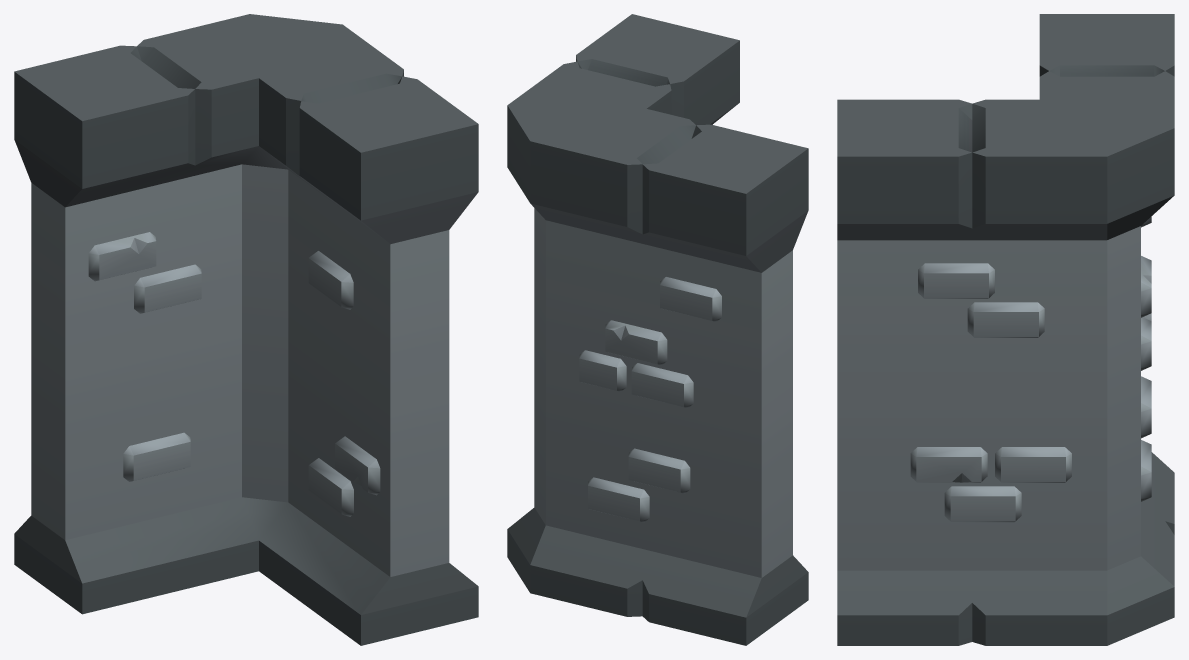
File: wall_corner.glb
3 views of the same model, side by side, from view 1: azimuth 30°, elevation 25°; view 2: azimuth 150°, elevation 25°; view 3: azimuth 270°, elevation 25° (orthographic). The views are drawn at different scales.
Visible parts, largest first — view 1: wall_corner; view 2: wall_corner; view 3: wall_corner.
Boxes of the visible parts, bbox=[...] form: wall_corner: bbox=[14, 14, 478, 645]; wall_corner: bbox=[507, 14, 808, 645]; wall_corner: bbox=[837, 14, 1174, 645].
Size of the model in its own units: 2.5 by 4 by 2.5.
1 material, 1 textured.
